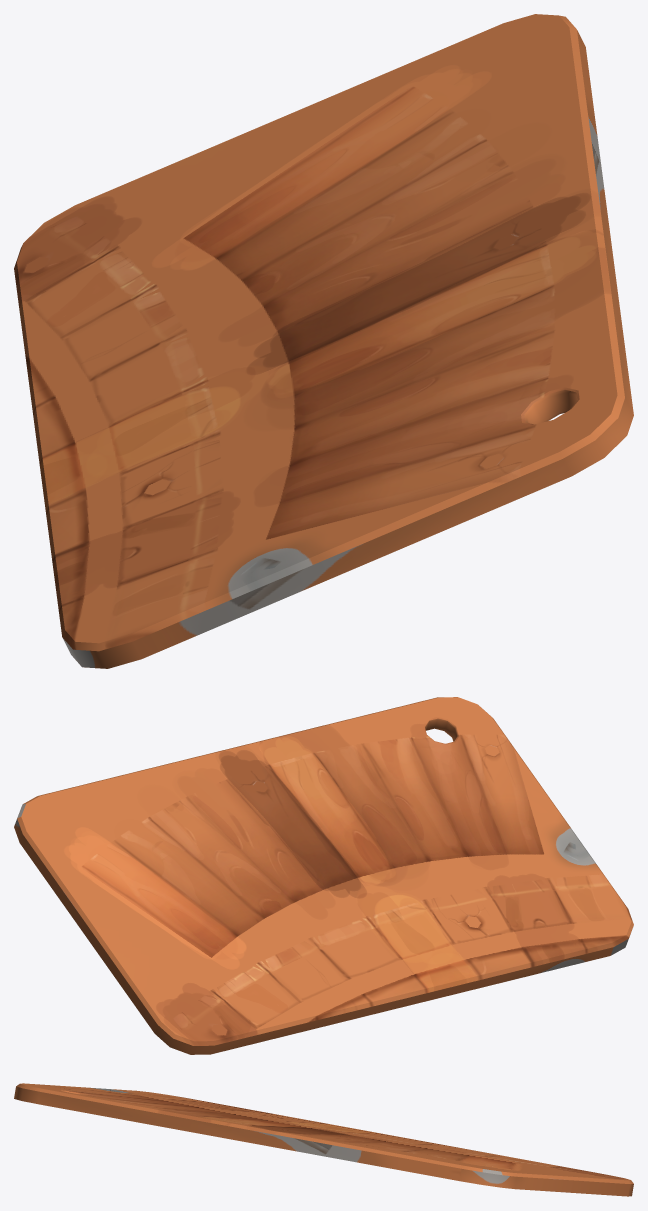
Rendered from board.gltf.
The picture shows the model from 3 angles, top to bottom: view 1: azimuth 30°, elevation 25°; view 2: azimuth 150°, elevation 25°; view 3: azimuth 270°, elevation 25°; orthographic projection. The views are drawn at different scales.
Parts seen in each view (by area): view 1: Cutting board_low; view 2: Cutting board_low; view 3: Cutting board_low.
Part boxes in pixels (box(x1,y1,x2,y2)): Cutting board_low: box(14, 14, 633, 668); Cutting board_low: box(14, 697, 633, 1054); Cutting board_low: box(14, 1083, 633, 1196).
Size of the model in its own units: 290 by 96.8 by 350.
Materials: 1 (1 with a texture image).
